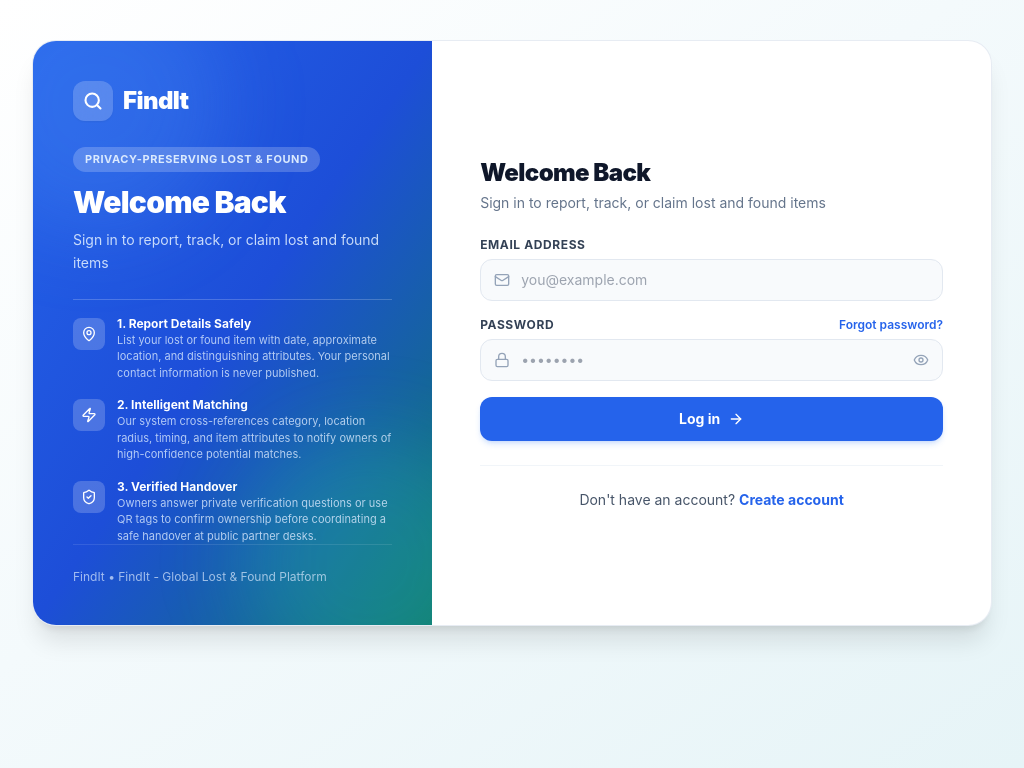
Scenario: Milestone 1 - Scaffolding, Navigation, Auth and Route Security › Login Form Validation & Authentication Flow › shows inline validation errors for empty fields, invalid email format, and short password
Note: Submit empty form
Click the button "Log in" at point(712, 418), box x1=480 y1=396 x2=943 y2=440
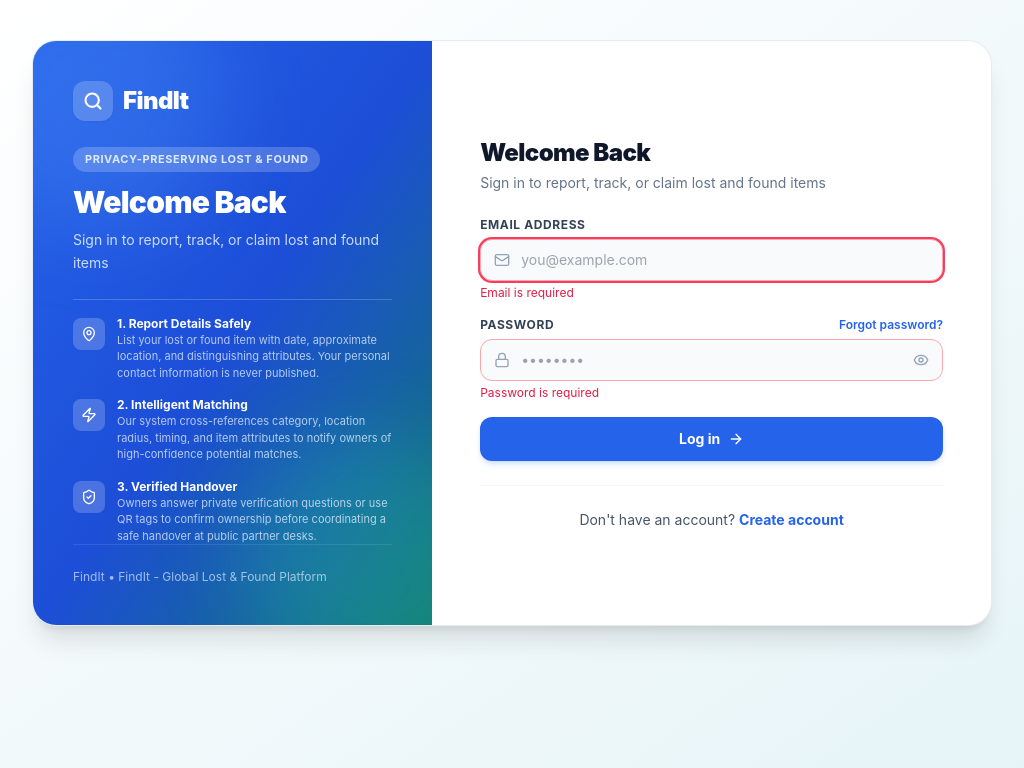
Now the text "Email is required" is shown, box x1=480 y1=284 x2=574 y2=300
Now the text "Password is required" is shown, box x1=480 y1=384 x2=599 y2=400
Note: Invalid email format
Type "not-an-email" into the field with placeholder "you@example.com" at point(712, 260), box x1=480 y1=238 x2=943 y2=280
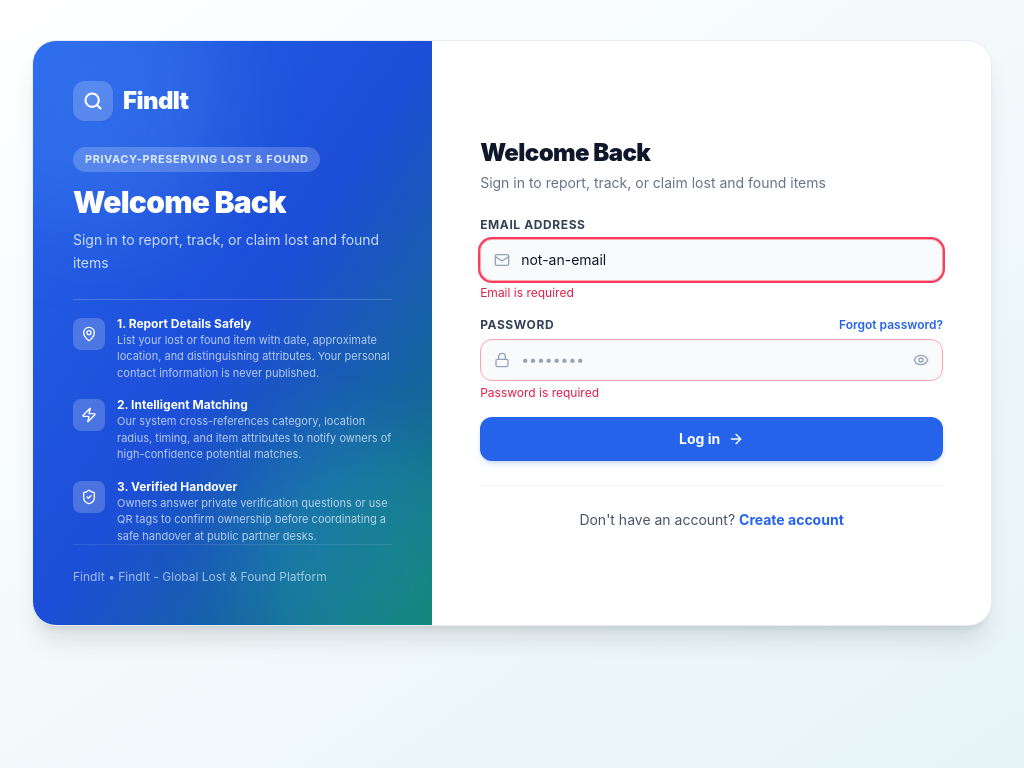
Leave the field with placeholder "you@example.com", box x1=480 y1=238 x2=943 y2=280
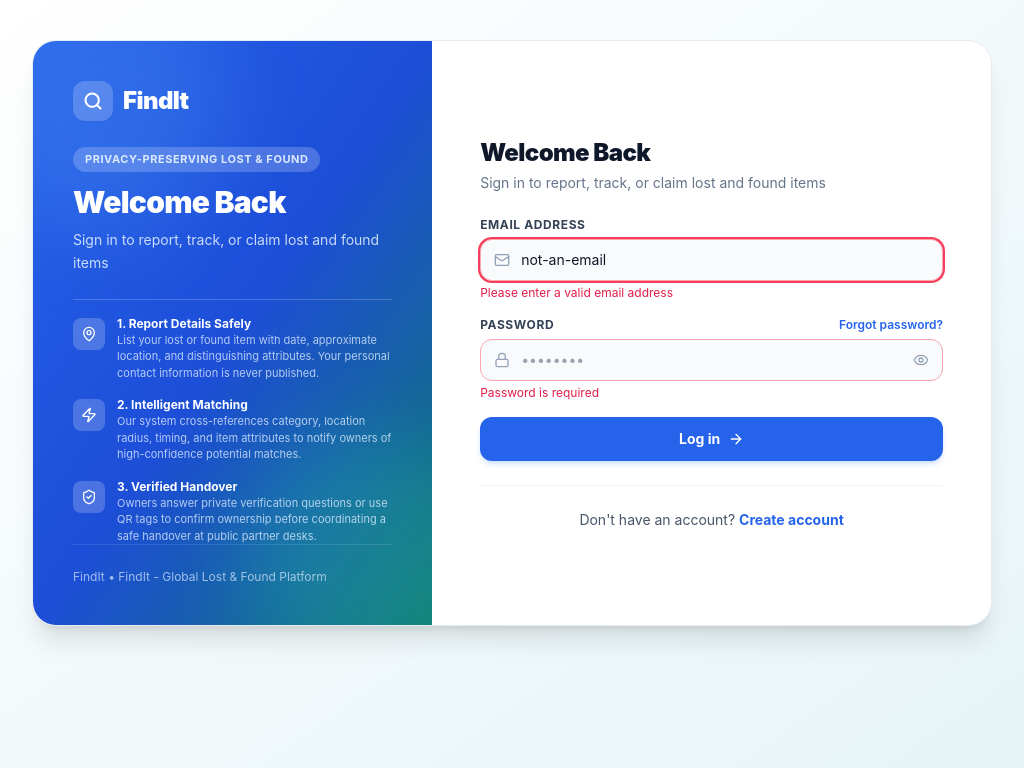
Now the text "Please enter a valid email address" is shown, box x1=480 y1=284 x2=673 y2=300
Note: Short password under 8 characters
Type "12345" into the password field with placeholder "••••••••" at point(712, 360), box x1=480 y1=338 x2=943 y2=380
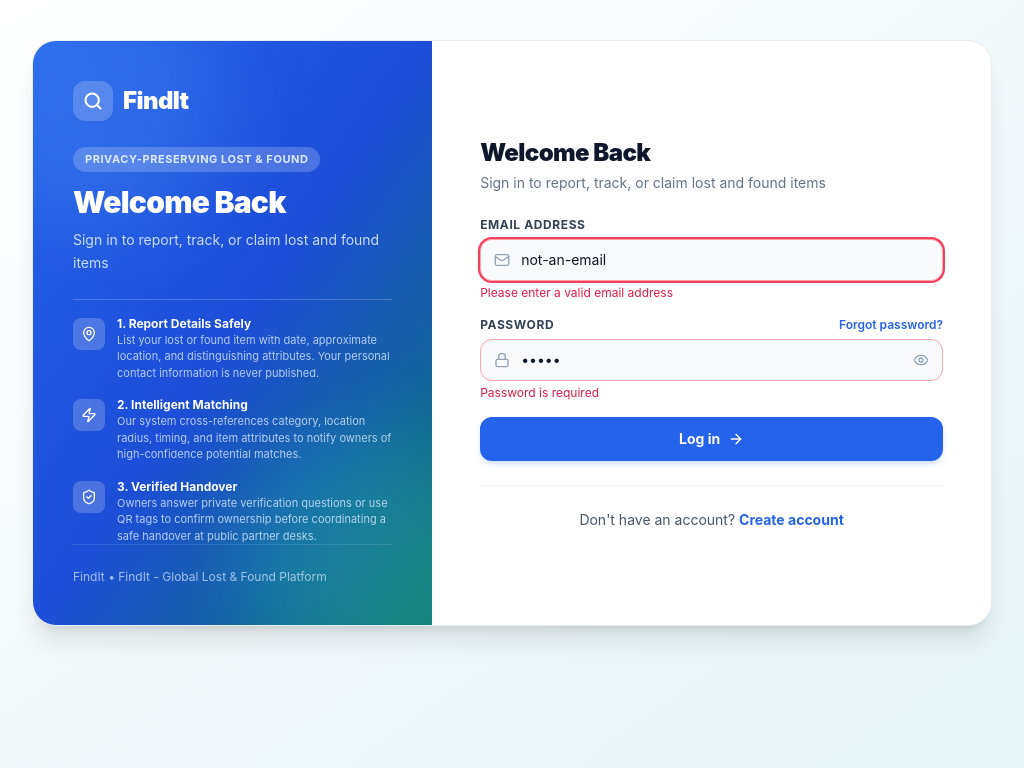
Leave the password field with placeholder "••••••••", box x1=480 y1=338 x2=943 y2=380
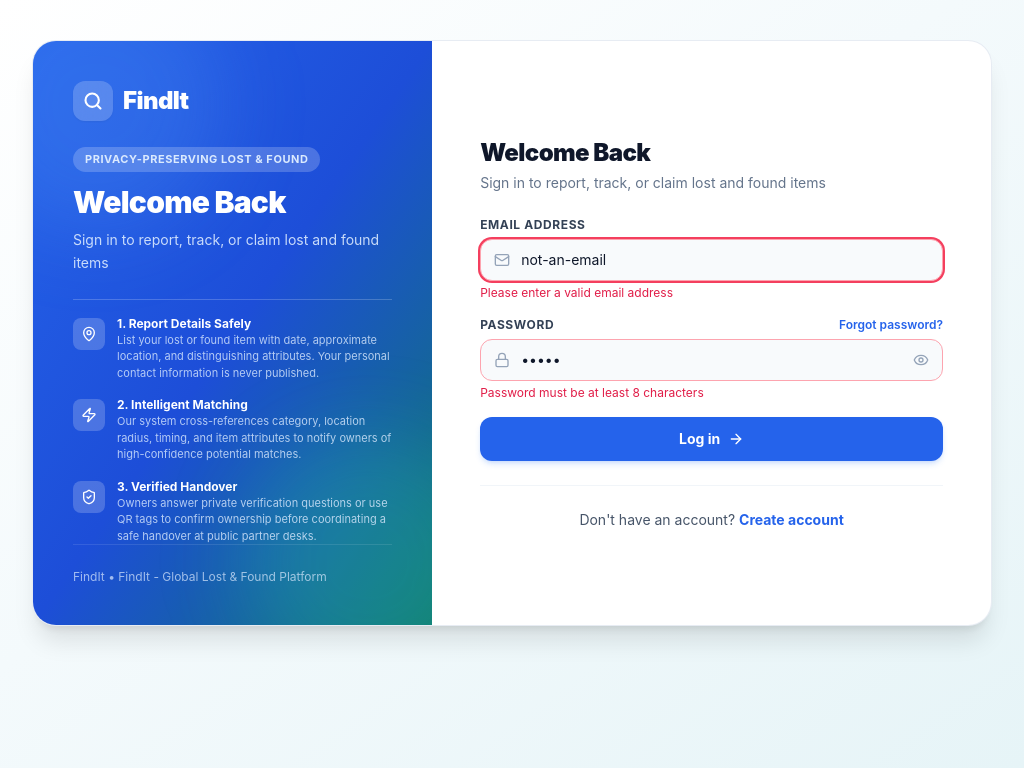
Now the text "Password must be at least 8 characters" is shown, box x1=480 y1=384 x2=704 y2=400
